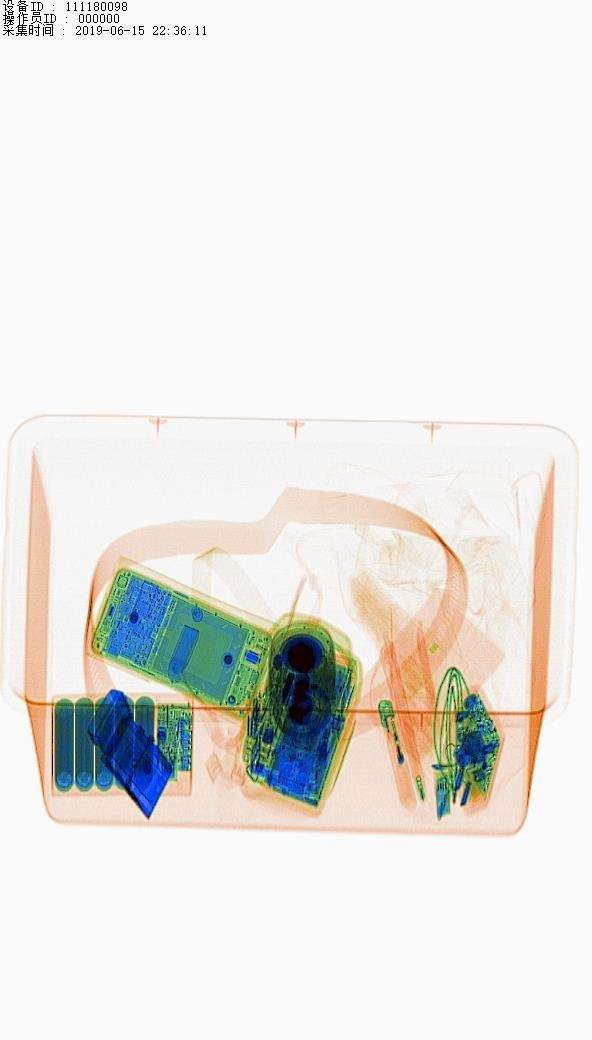NonmetallicFire: (379, 693, 428, 815)
